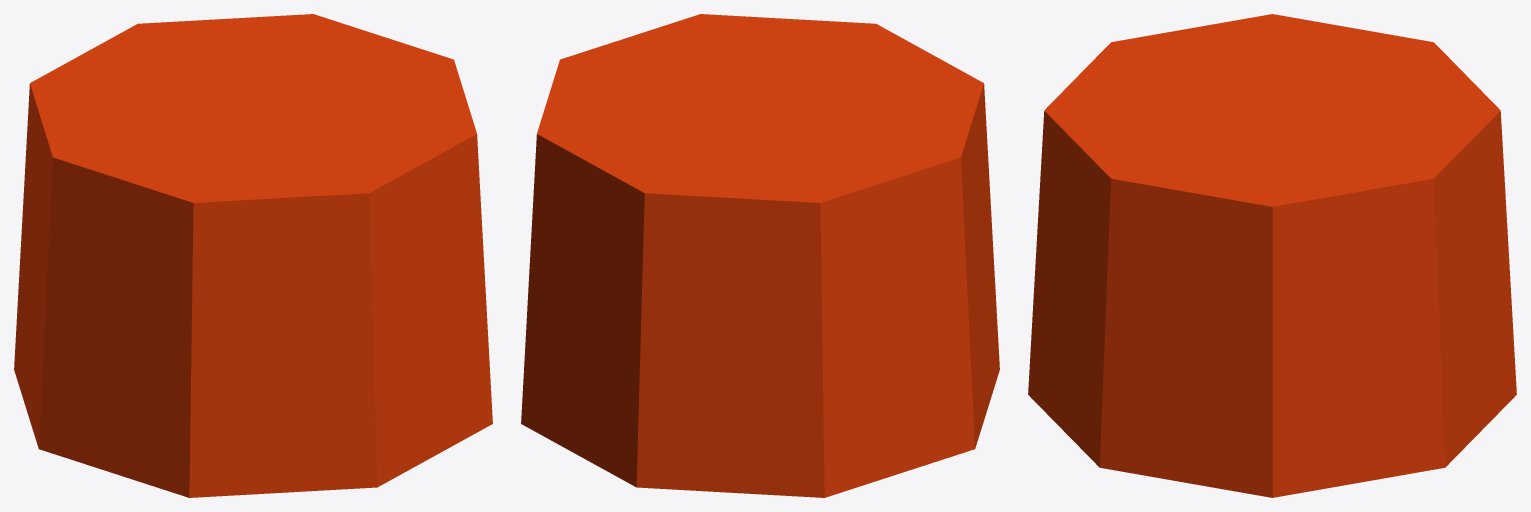
Rendered from tree_3.fbx.
3 views of the same model, side by side, from view 1: azimuth 30°, elevation 25°; view 2: azimuth 150°, elevation 25°; view 3: azimuth 270°, elevation 25° (orthographic).
Parts seen in each view (by area): view 1: Cylinder; view 2: Cylinder; view 3: Cylinder.
Boxes of the visible parts, box(x1,y1,x2,y2) form: Cylinder: box(14, 14, 492, 497); Cylinder: box(521, 14, 999, 497); Cylinder: box(1028, 14, 1516, 497).
Bounding box in the file's own units: 100 × 64.16 × 100.
